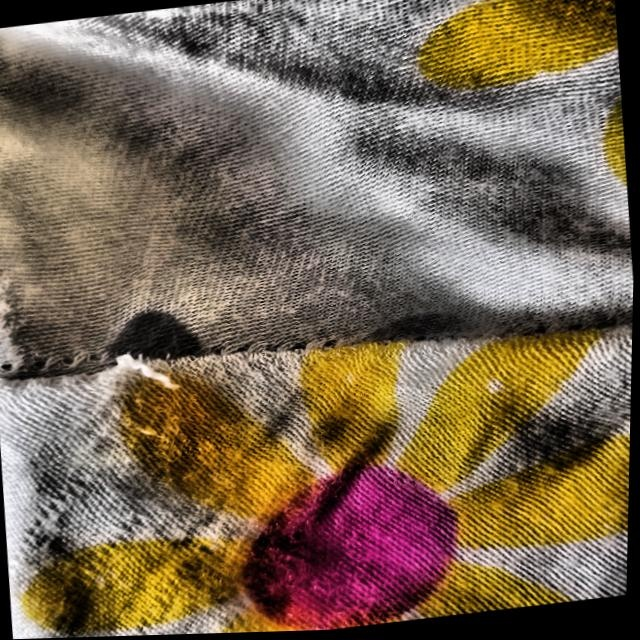Stitch: (88, 323, 198, 422)
